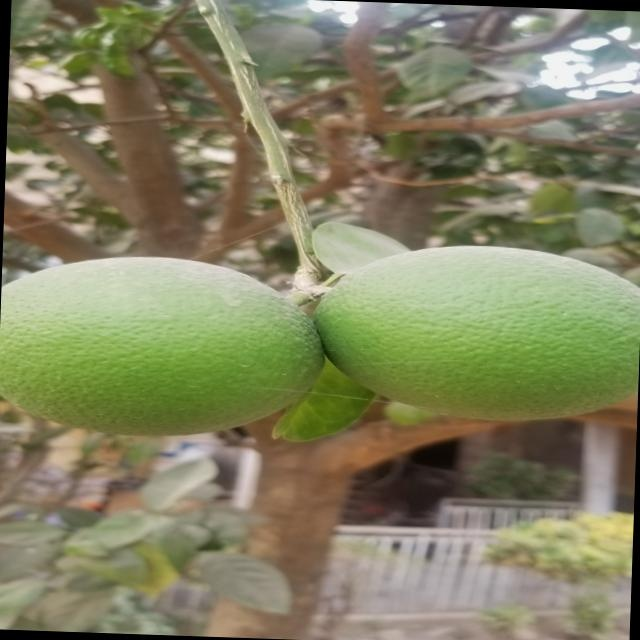agrume: (0, 251, 328, 438), (333, 240, 640, 417)
